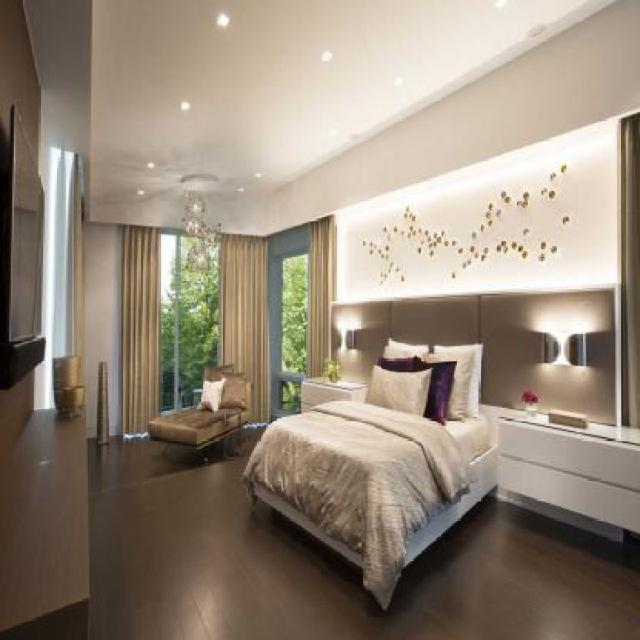floor: (86, 422, 640, 640)
